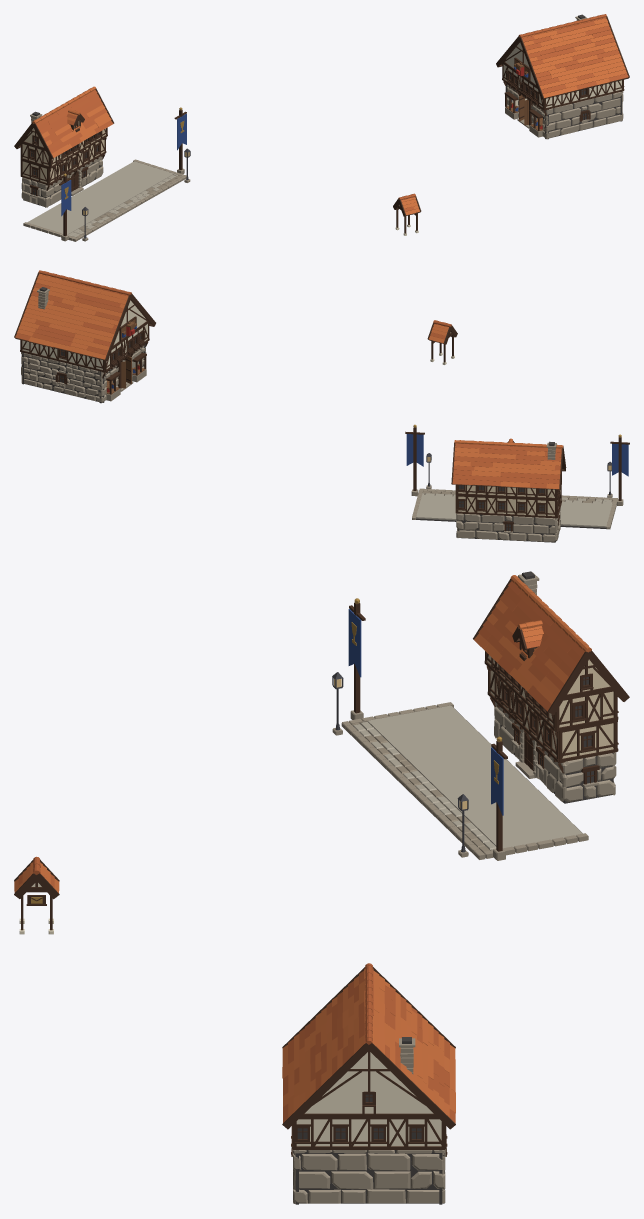
File: LOBBY_VM_05_SERVICES_6c3d02.fbx
3 views of the same model, one above another, from view 1: azimuth 30°, elevation 25°; view 2: azimuth 150°, elevation 25°; view 3: azimuth 270°, elevation 25° (orthographic). The views are drawn at different scales.
Visible parts, largest first — view 1: VM_Rank_Stage__Stone_VM_Trim, VM_Shop_Building__Roof_VM_Terracotta, VM_Rank_Hall__Wood_VM_Timber, VM_Shop_Building__Roof_VM_Terracotta_B, VM_Shop_Building__Wood_VM_Timber, VM_Shop_Building__Stone_VM_Warm, VM_Rank_Hall__Roof_VM_Terracotta_B, VM_Rank_Hall__Stone_VM_Warm, VM_Rank_Hall__Roof_VM_Terracotta, VM_Rank_Stage__Stone_VM_Warm, VM_Rank_Hall__Plaster_VM_Ochre, VM_Shop_Building__Plaster_VM_Cream (+4 smaller); view 2: VM_Shop_Building__Roof_VM_Terracotta, VM_Shop_Building__Stone_VM_Warm, VM_Shop_Building__Wood_VM_Timber, VM_Rank_Hall__Roof_VM_Terracotta_B, VM_Rank_Hall__Wood_VM_Timber, VM_Rank_Hall__Stone_VM_Warm, VM_Shop_Building__Roof_VM_Terracotta_B, VM_Rank_Stage__Stone_VM_Trim, VM_Rank_Hall__Roof_VM_Terracotta, VM_Rank_Hall__Plaster_VM_Ochre, VM_Shop_Building__Plaster_VM_Cream, VM_Shop_Building__Stone_VM_Mortar (+5 smaller); view 3: VM_Rank_Stage__Stone_VM_Trim, VM_Rank_Hall__Wood_VM_Timber, VM_Shop_Building__Roof_VM_Terracotta, VM_Shop_Building__Stone_VM_Warm, VM_Shop_Building__Wood_VM_Timber, VM_Shop_Building__Plaster_VM_Cream, VM_Shop_Building__Roof_VM_Terracotta_B, VM_Rank_Hall__Roof_VM_Terracotta_B, VM_Rank_Hall__Stone_VM_Warm, VM_Rank_Hall__Roof_VM_Terracotta, VM_Rank_Stage__Stone_VM_Warm, VM_Rank_Hall__Plaster_VM_Ochre (+5 smaller).
Boxes of the visible parts, x1,y1,x2,y2 form: VM_Rank_Stage__Stone_VM_Trim: (27,161,177,236); VM_Shop_Building__Roof_VM_Terracotta: (522,18,627,98); VM_Rank_Hall__Wood_VM_Timber: (14,89,114,195); VM_Shop_Building__Roof_VM_Terracotta_B: (518,14,628,93); VM_Shop_Building__Wood_VM_Timber: (496,16,629,130); VM_Shop_Building__Stone_VM_Warm: (505,16,623,139); VM_Rank_Hall__Roof_VM_Terracotta_B: (36,90,113,153); VM_Rank_Hall__Stone_VM_Warm: (21,113,103,207); VM_Rank_Hall__Roof_VM_Terracotta: (32,86,111,157); VM_Rank_Stage__Stone_VM_Warm: (23,159,190,241); VM_Rank_Hall__Plaster_VM_Ochre: (22,121,105,182); VM_Shop_Building__Plaster_VM_Cream: (503,42,621,120); VM_Shop_Building__Roof_VM_Terracotta: (17,273,128,359); VM_Shop_Building__Stone_VM_Warm: (21,289,146,402); VM_Shop_Building__Wood_VM_Timber: (14,272,155,394); VM_Rank_Hall__Roof_VM_Terracotta_B: (452,443,561,488); VM_Rank_Hall__Wood_VM_Timber: (451,441,566,531); VM_Rank_Hall__Stone_VM_Warm: (456,442,560,542); VM_Shop_Building__Roof_VM_Terracotta_B: (15,270,131,355); VM_Rank_Stage__Stone_VM_Trim: (416,493,612,527); VM_Rank_Hall__Roof_VM_Terracotta: (454,438,563,489); VM_Rank_Hall__Plaster_VM_Ochre: (458,485,560,516); VM_Shop_Building__Plaster_VM_Cream: (22,300,147,382); VM_Shop_Building__Stone_VM_Mortar: (21,287,145,403); VM_Rank_Stage__Stone_VM_Trim: (353,705,582,850); VM_Rank_Hall__Wood_VM_Timber: (473,579,629,784); VM_Shop_Building__Roof_VM_Terracotta: (282,968,455,1117); VM_Shop_Building__Stone_VM_Warm: (291,1038,446,1203); VM_Shop_Building__Wood_VM_Timber: (282,967,455,1156); VM_Shop_Building__Plaster_VM_Cream: (296,1052,441,1146); VM_Shop_Building__Roof_VM_Terracotta_B: (283,963,455,1123); VM_Rank_Hall__Roof_VM_Terracotta_B: (478,581,588,711); VM_Rank_Hall__Stone_VM_Warm: (494,572,616,802); VM_Rank_Hall__Roof_VM_Terracotta: (474,575,591,703); VM_Rank_Stage__Stone_VM_Warm: (332,702,588,860); VM_Rank_Hall__Plaster_VM_Ochre: (487,648,613,758).
Size of the model in its own units: 204 by 31.72 by 106.
